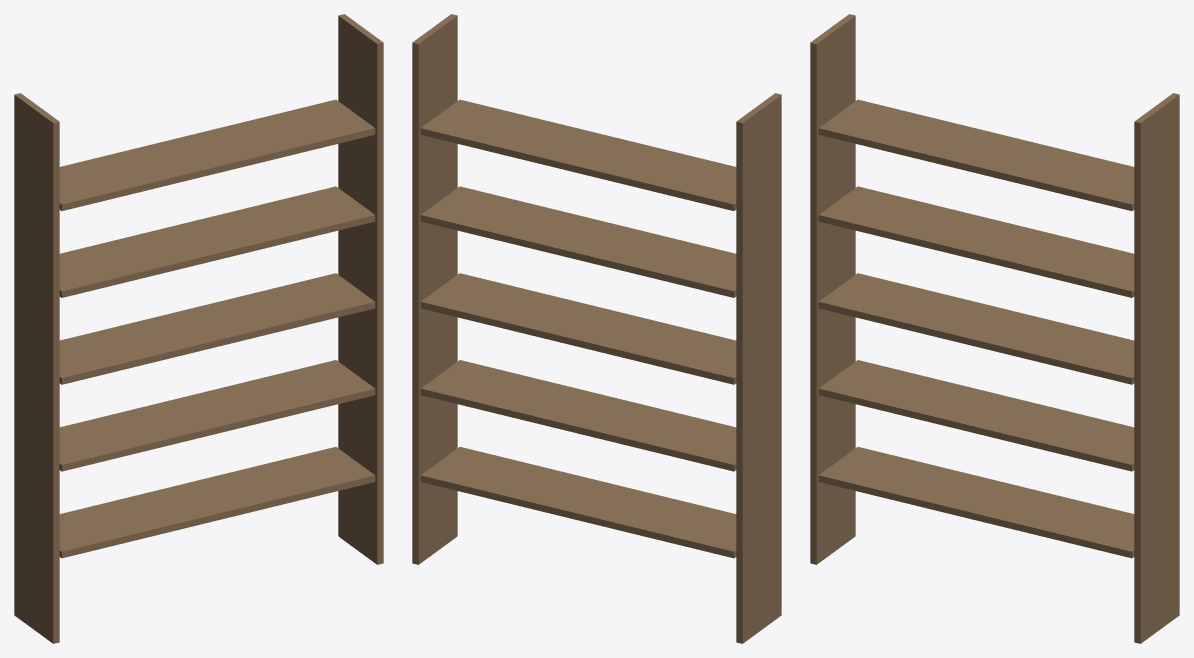
The model's file is bookshelf_08.glb.
3 renders of one model, left to right at view 1: azimuth 30°, elevation 25°; view 2: azimuth 150°, elevation 25°; view 3: azimuth 330°, elevation 25°, orthographic.
Bounding box in the file's own units: 1.56 × 2.35 × 0.32.
